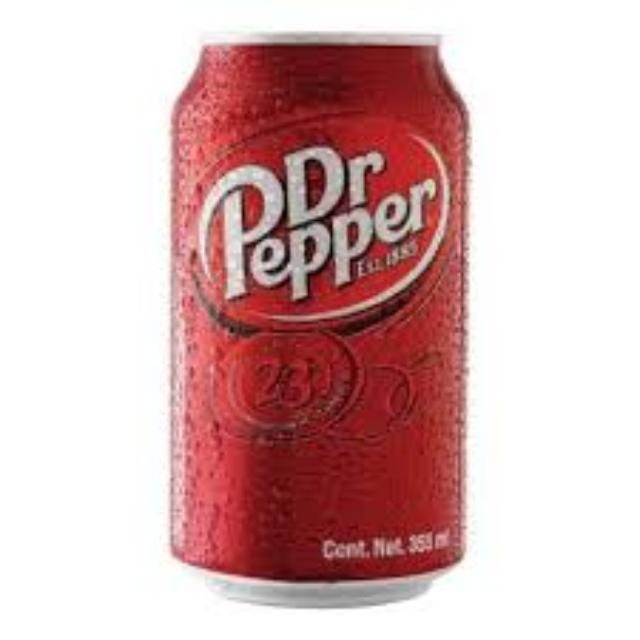metal: (171, 46, 466, 577)
